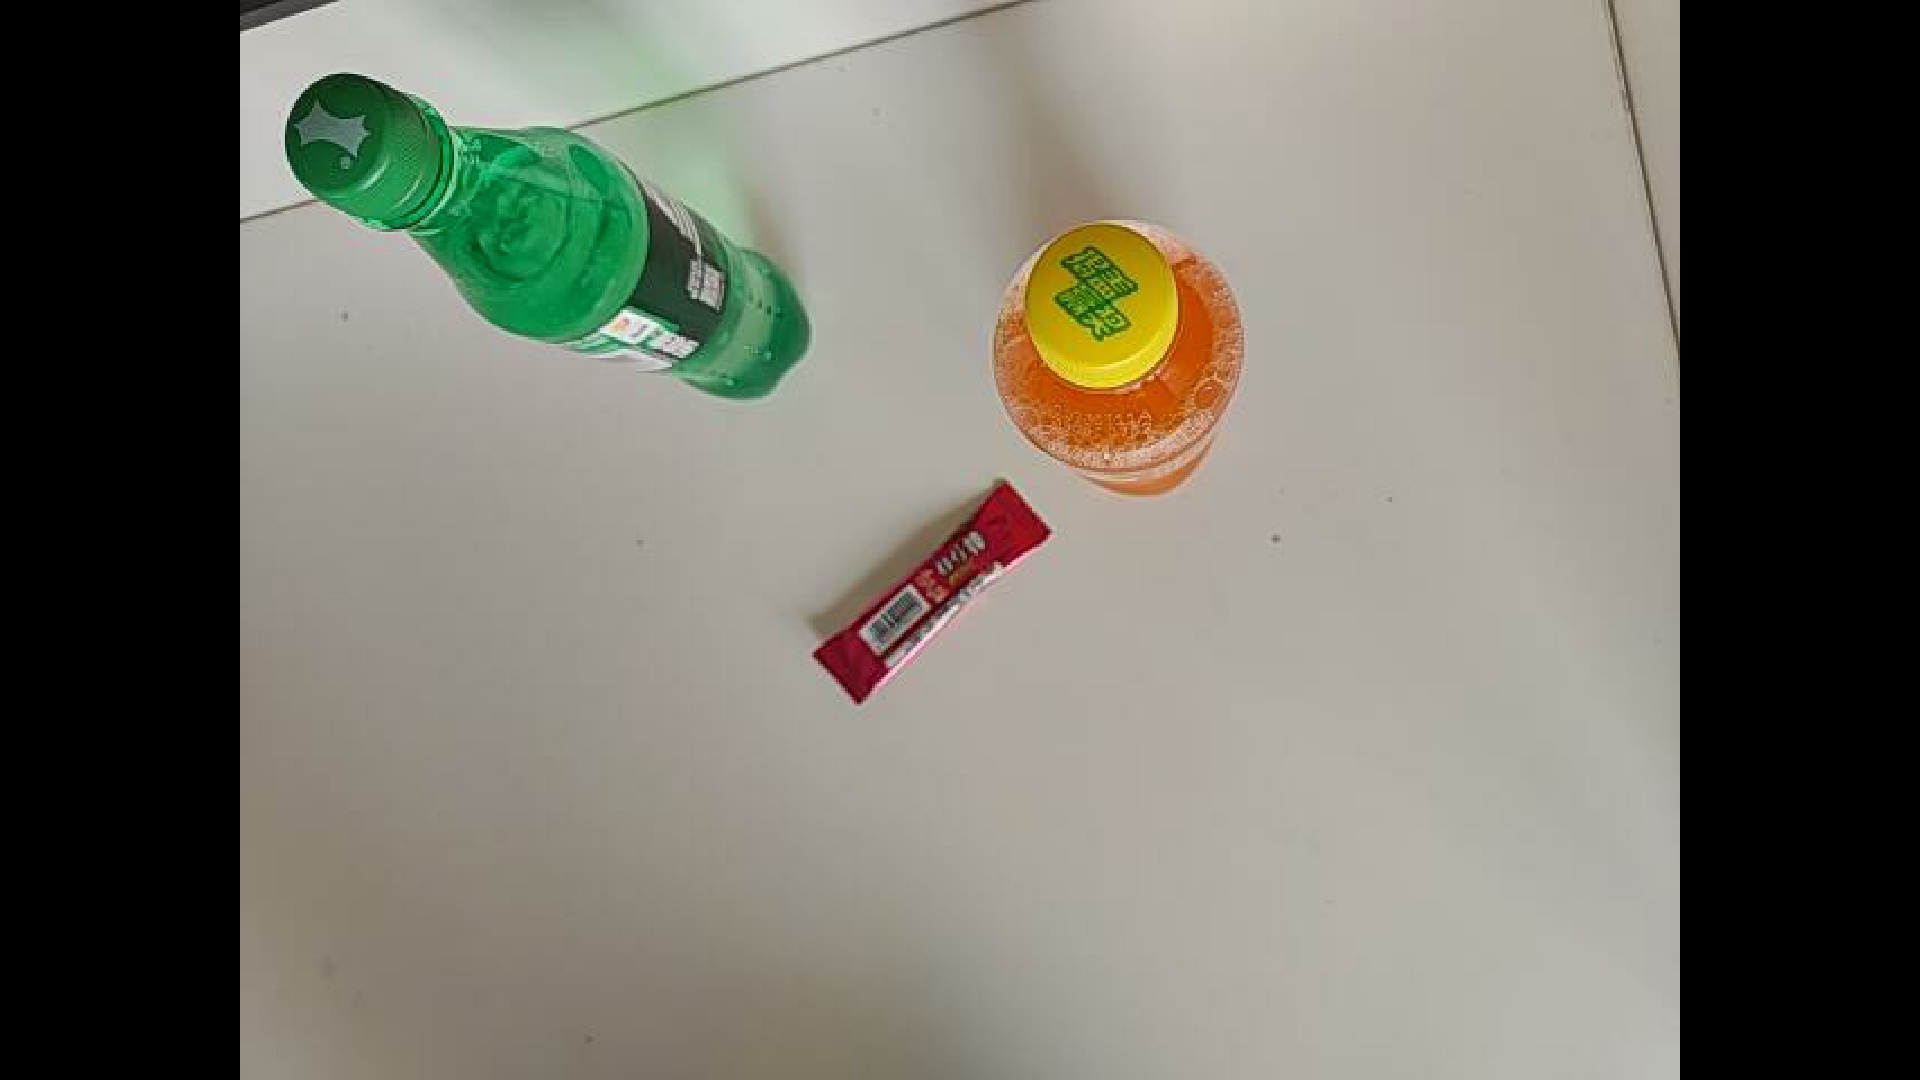fenta: (990, 218, 1246, 498)
sprite: (284, 71, 812, 402)
sugar: (807, 553, 1098, 711)
